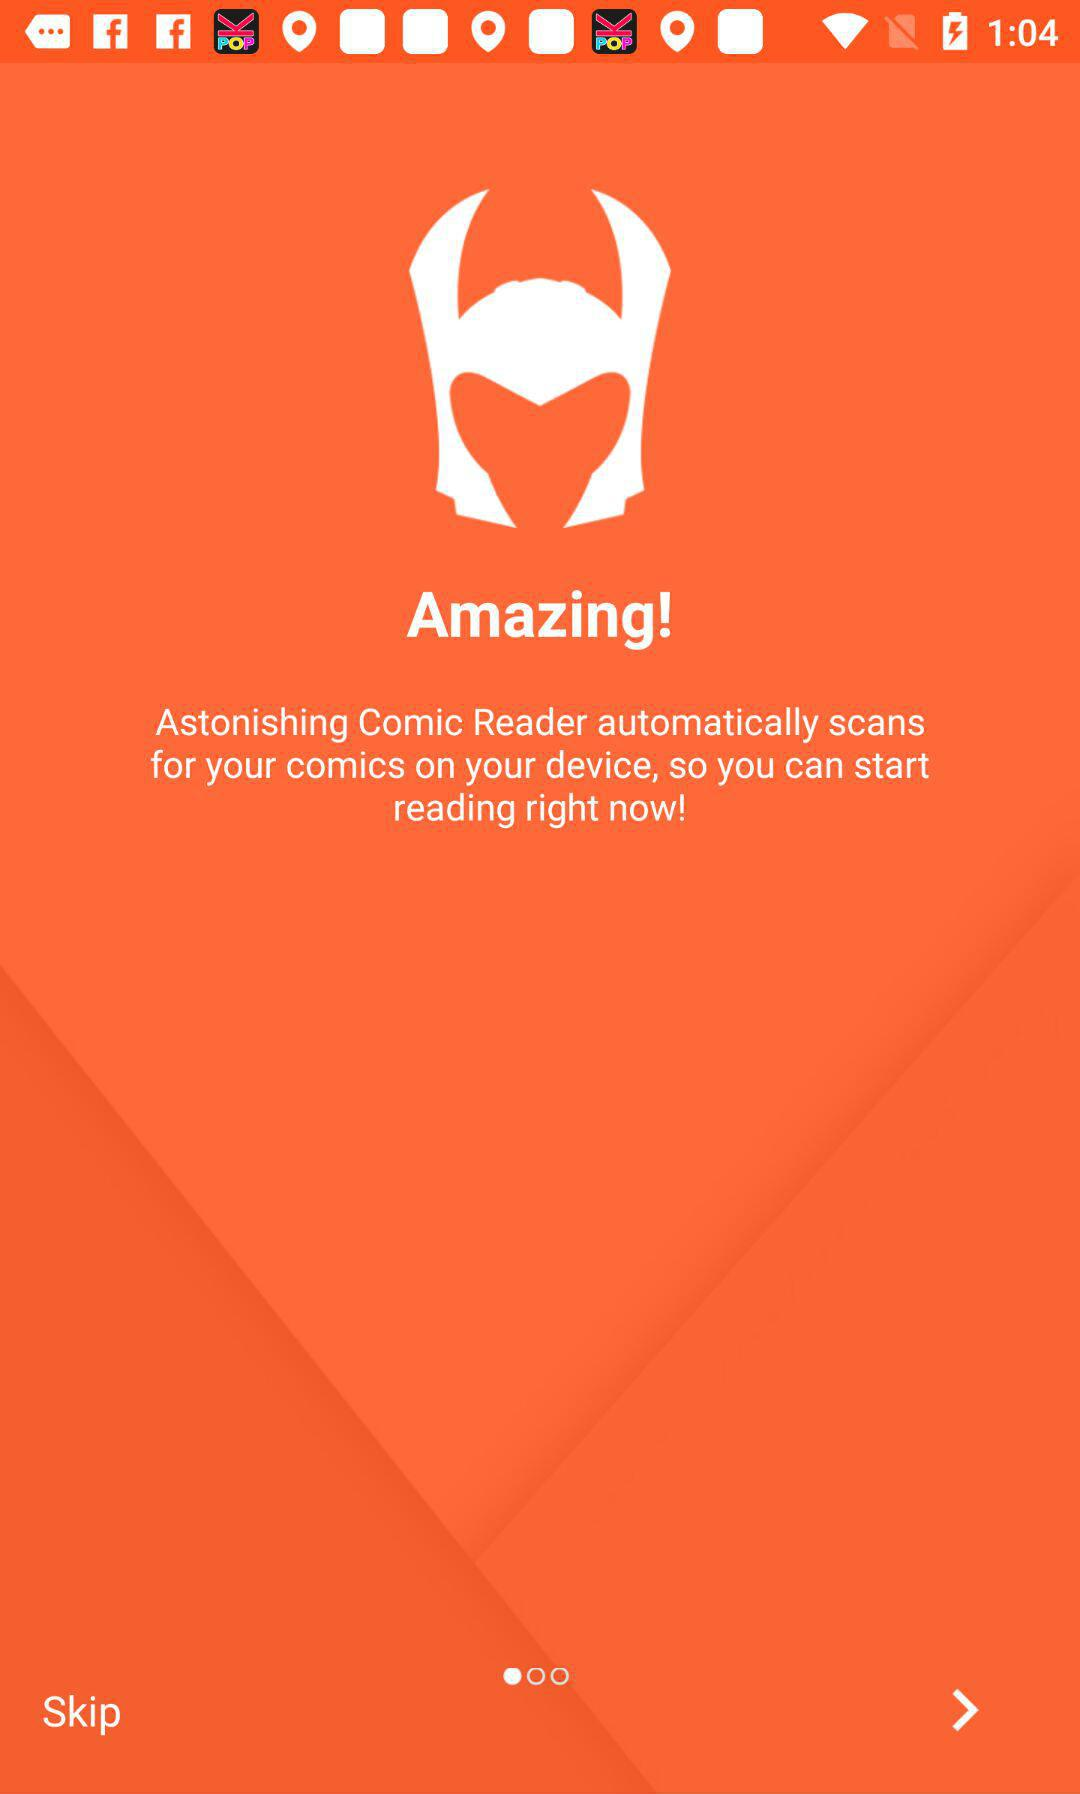Icon: (951, 1688, 981, 1732)
Image: (406, 185, 673, 531)
PageIndicator: (503, 1666, 571, 1686)
Text: (150, 704, 933, 830), (406, 589, 676, 654), (44, 1694, 122, 1738)
UpperTaskBar: (1, 1, 1080, 64)
